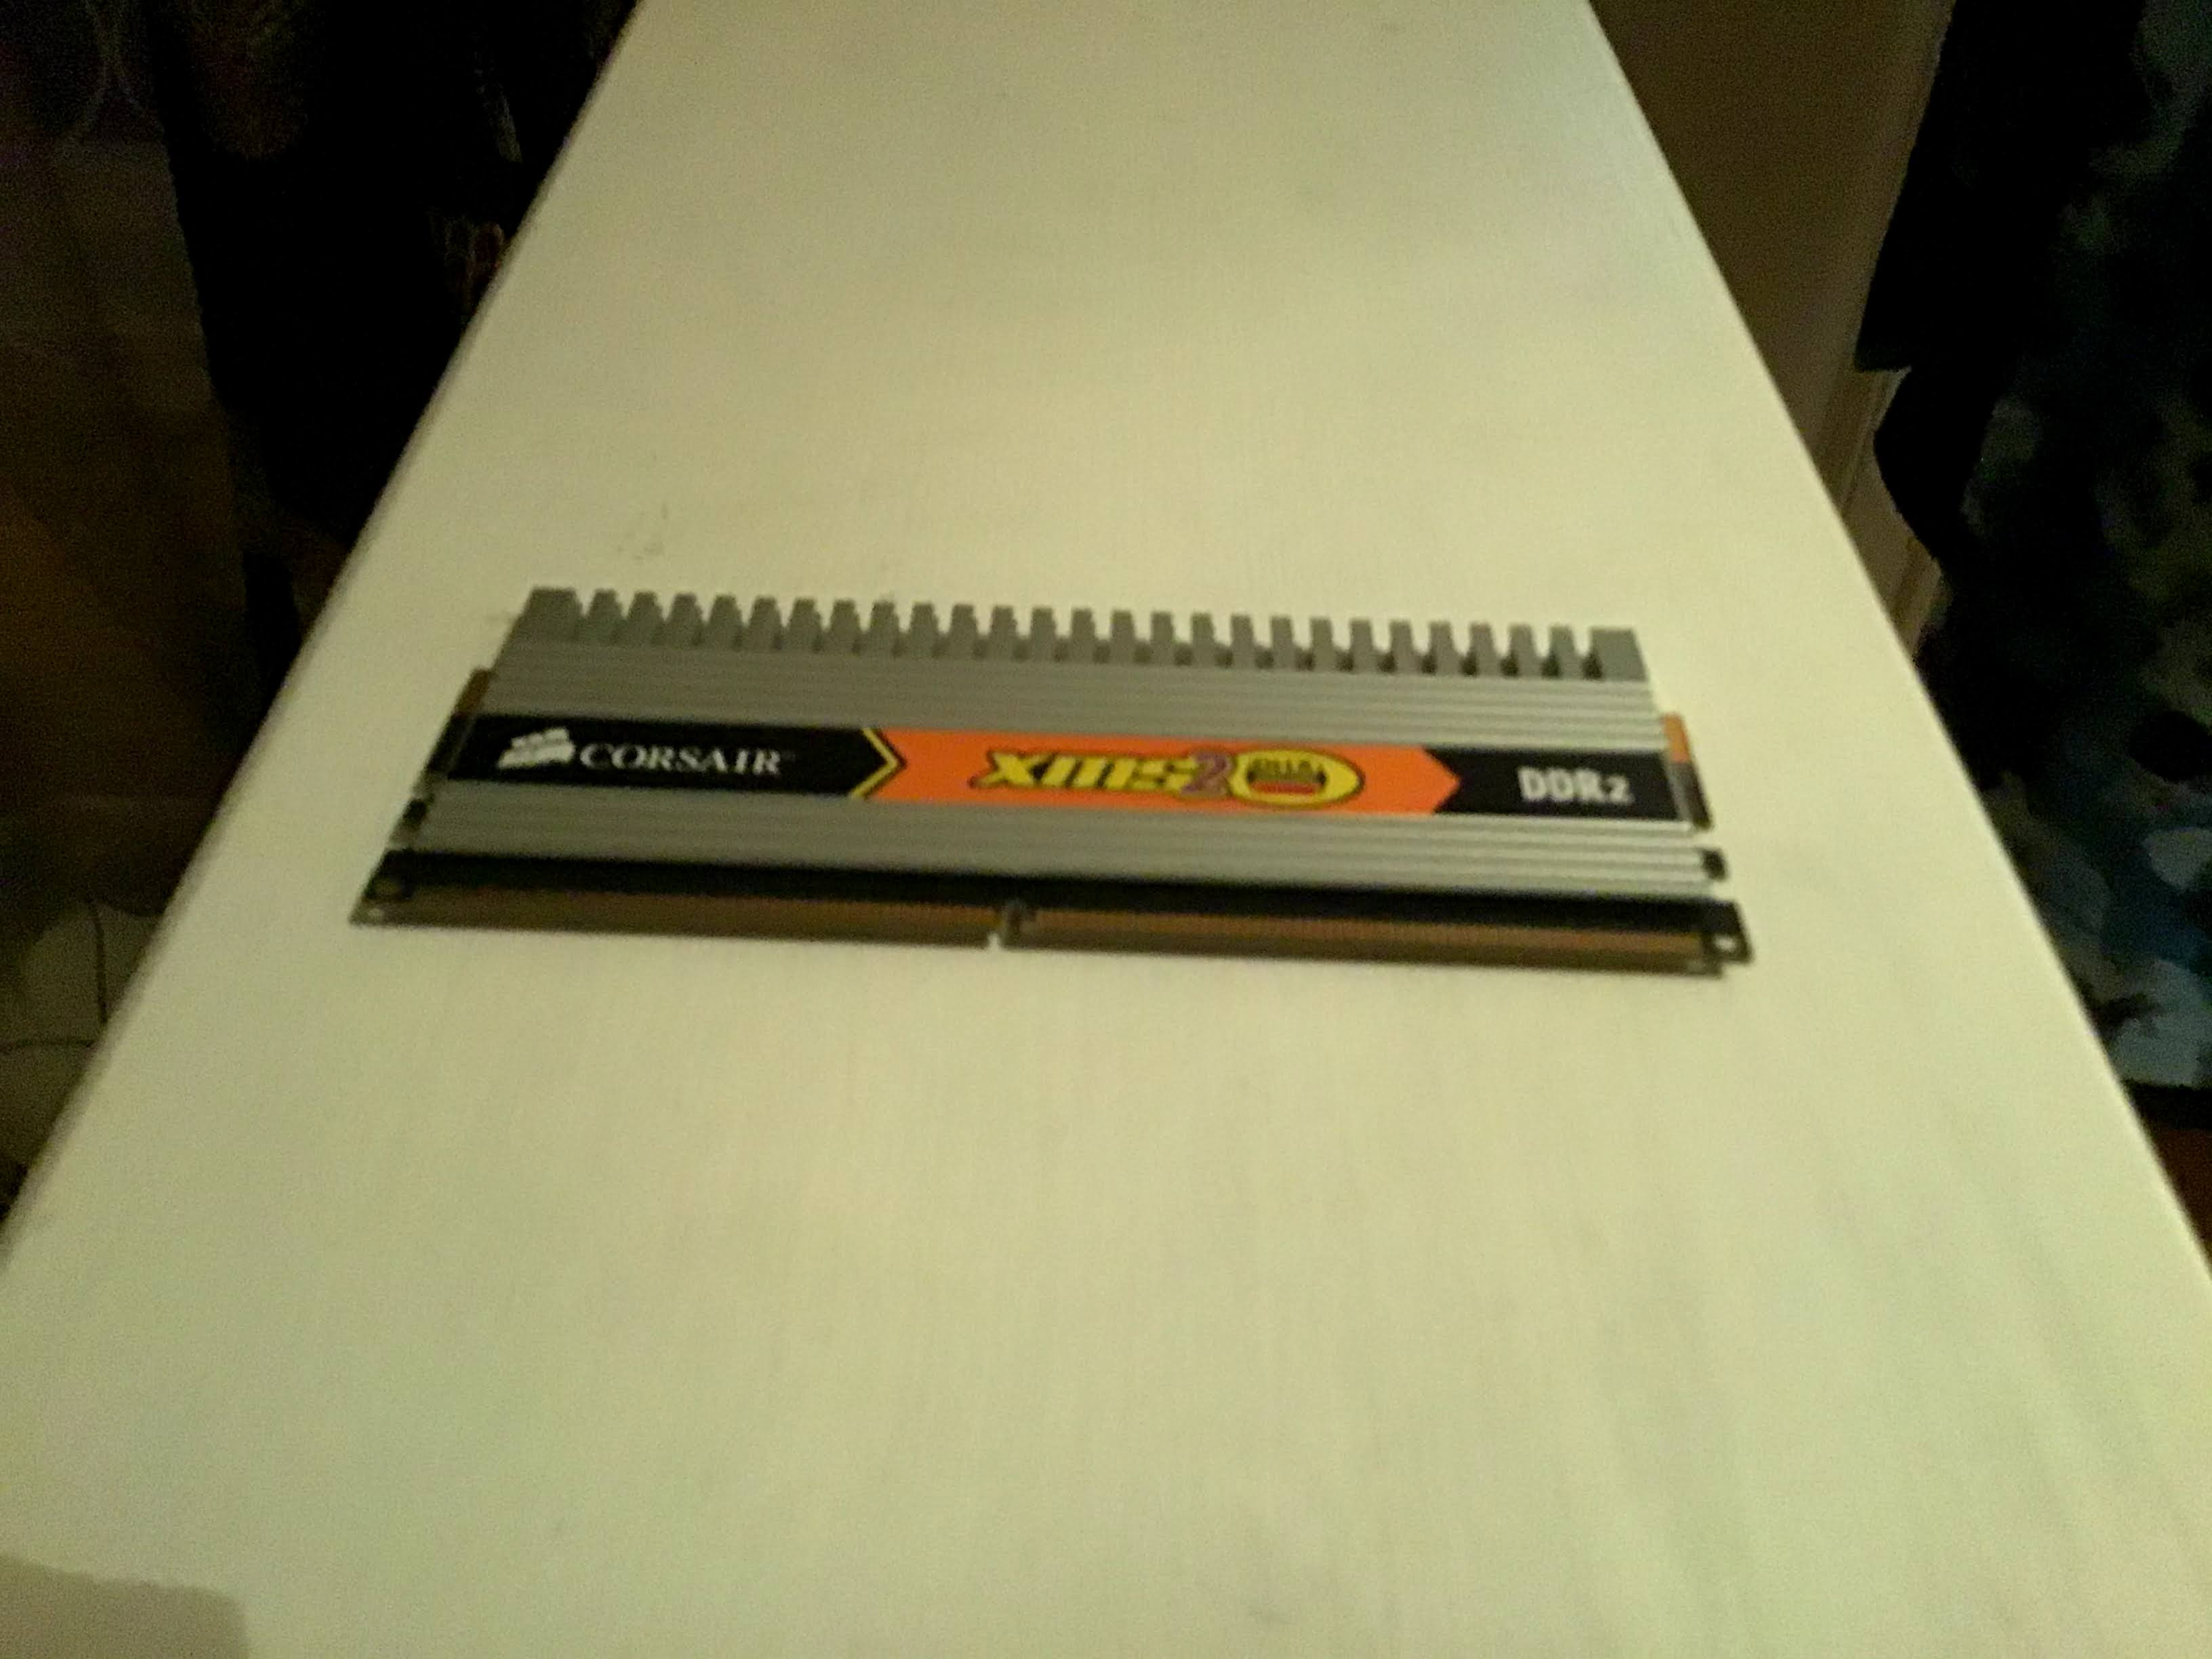Space-debris-medium: (385, 570, 1764, 1028)
